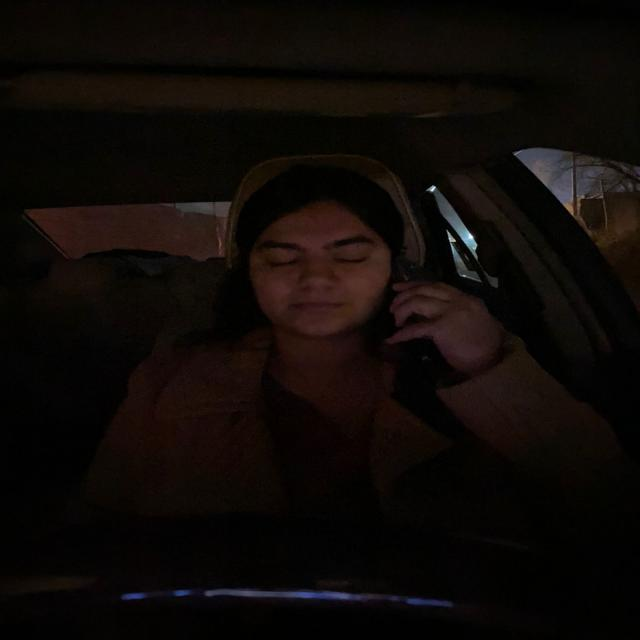drowsy: (242, 180, 392, 352)
